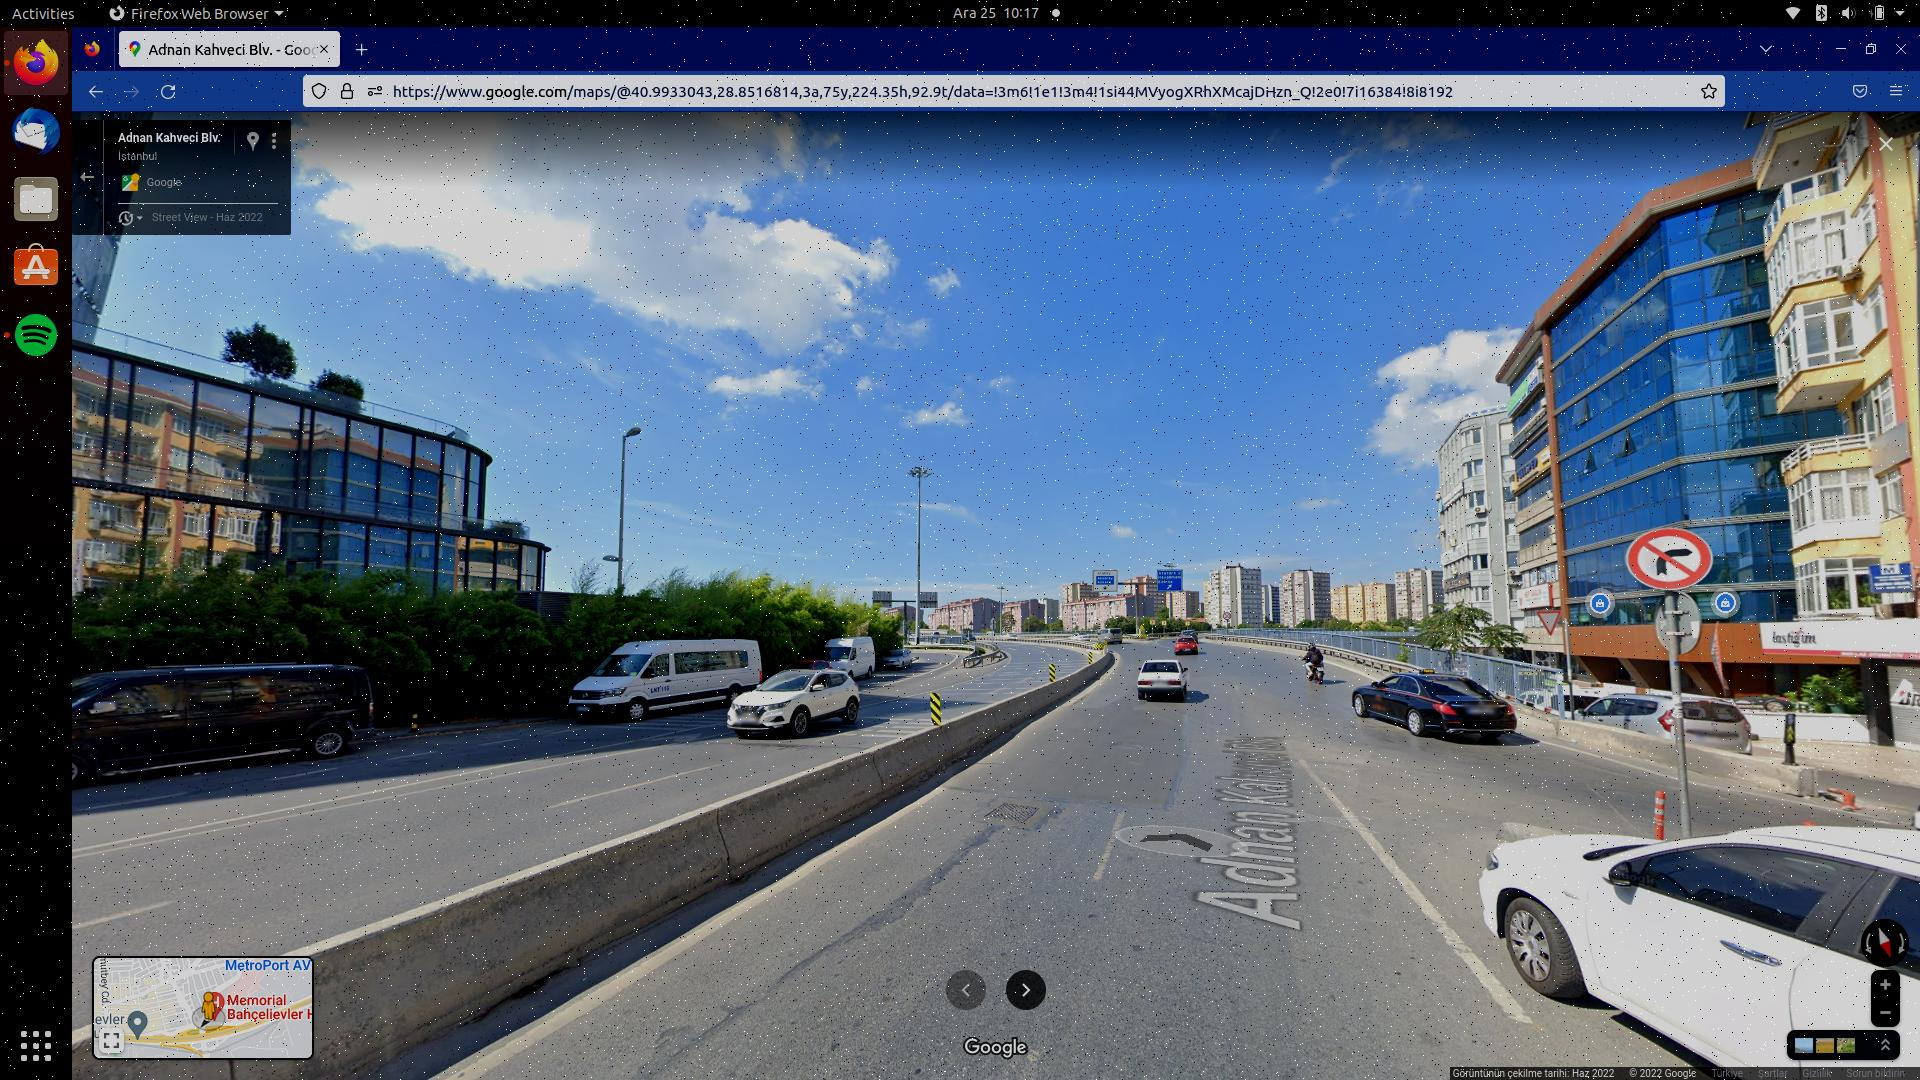rightturnsareforbidden: (1627, 529, 1713, 591)
